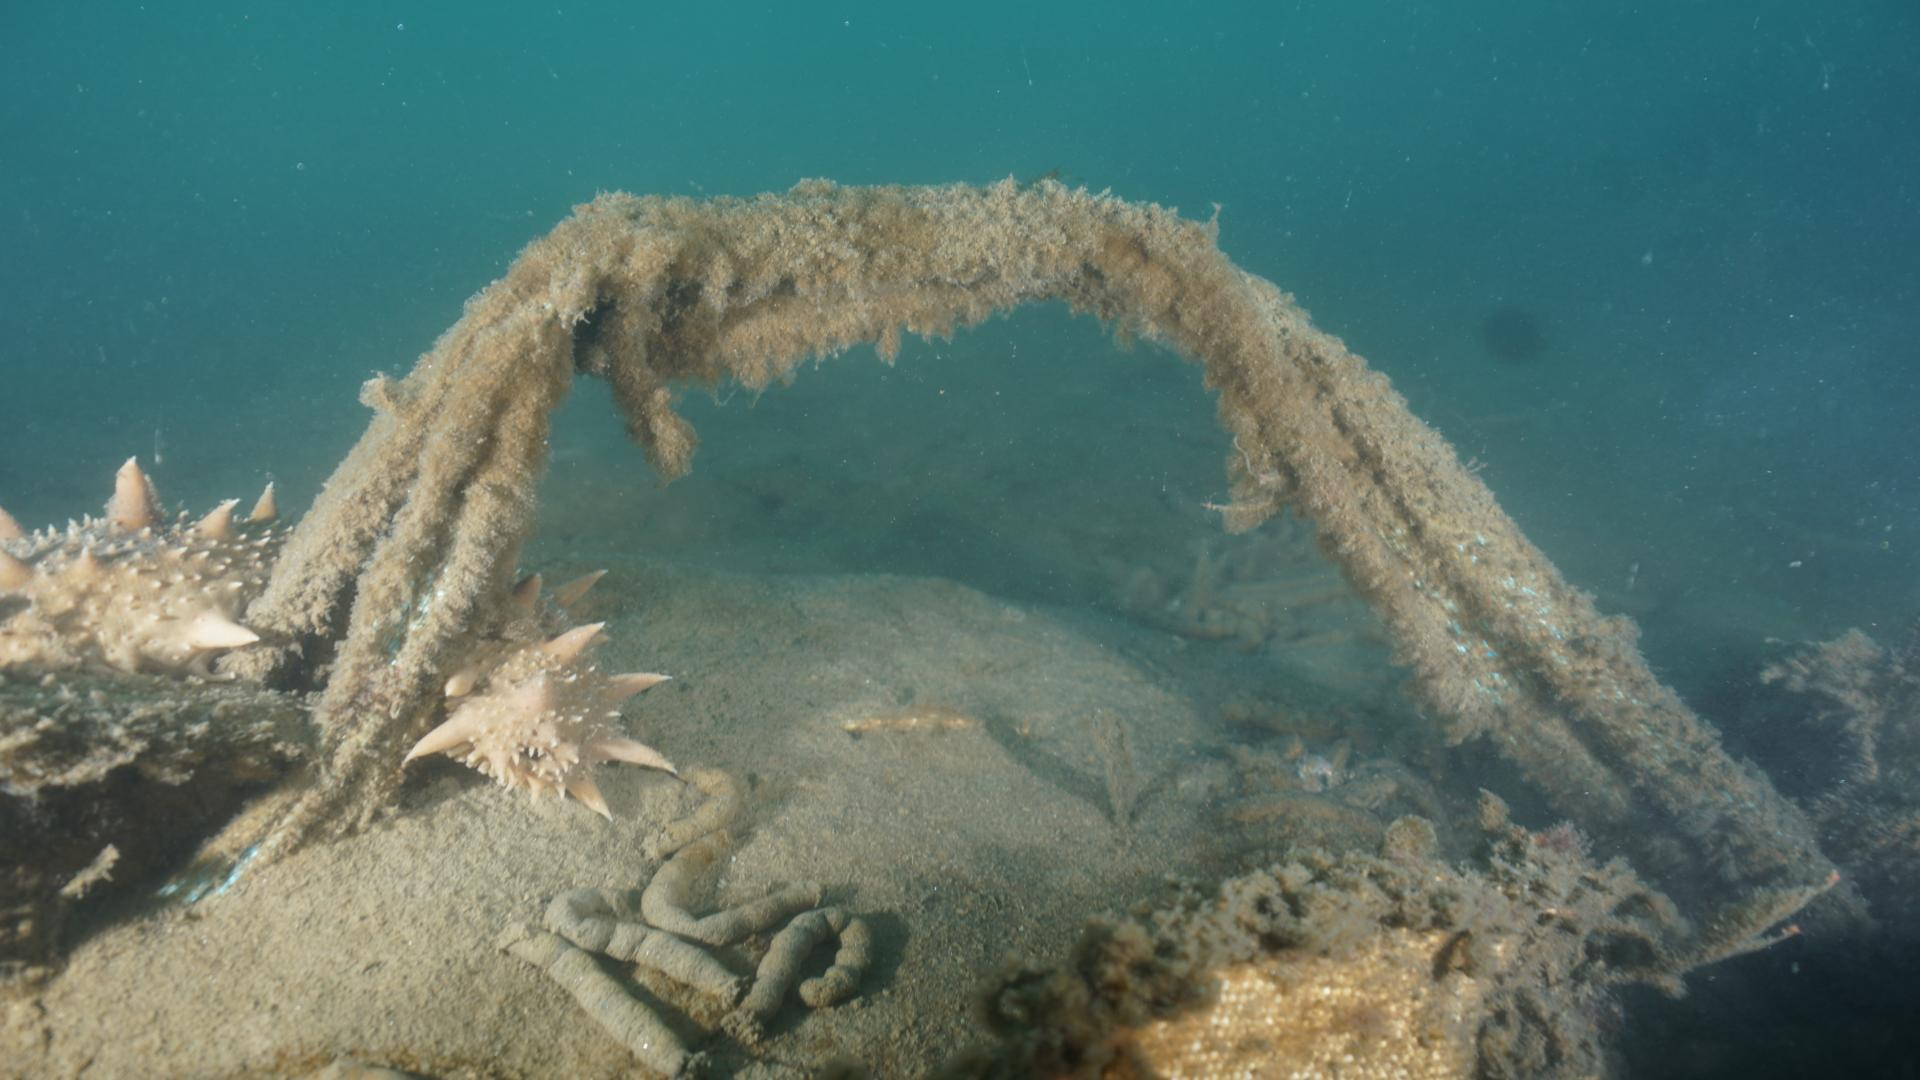other objects: (149, 61, 1862, 963)
